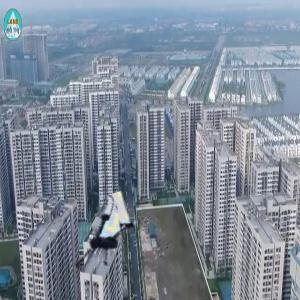drone: (57, 200, 143, 286)
